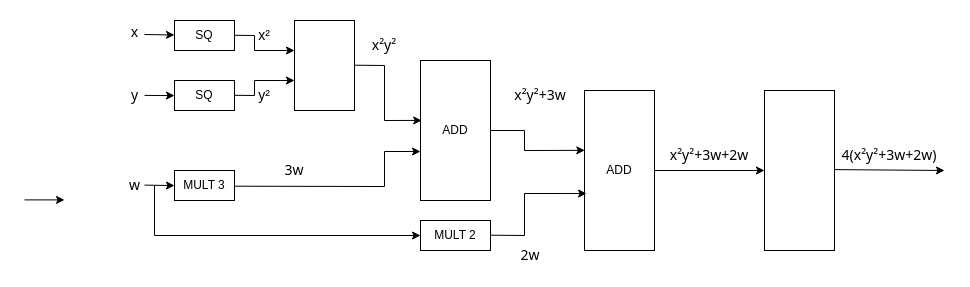
This 970x287 diagram has some shape labels left out. Each missing label, with the centre of its shape:
"MULT" goes at [324,65].
"MULT 4" goes at [799,170].
